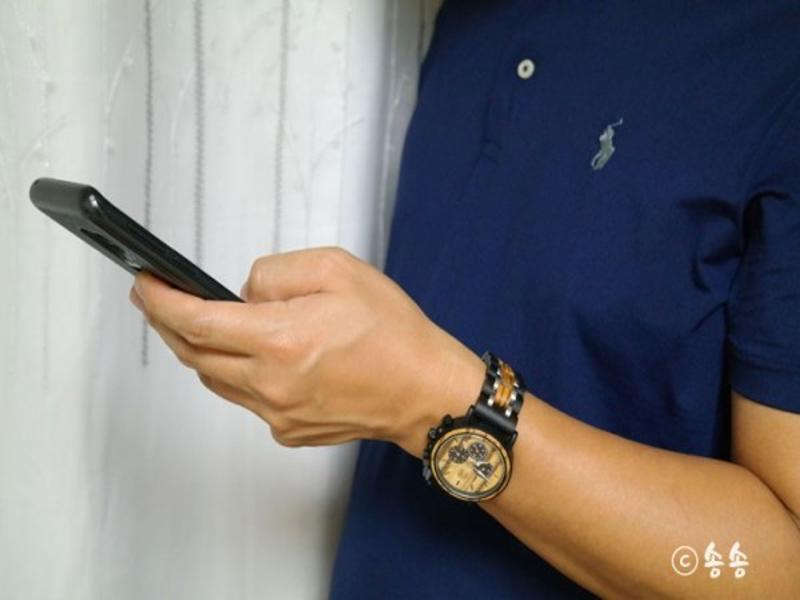watch: (419, 353, 527, 502)
